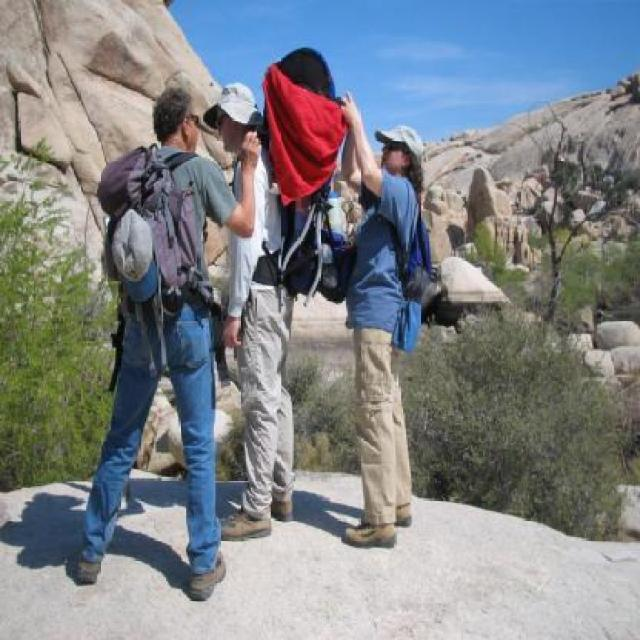backpack: (262, 37, 342, 301), (96, 143, 206, 320), (397, 220, 446, 349)
